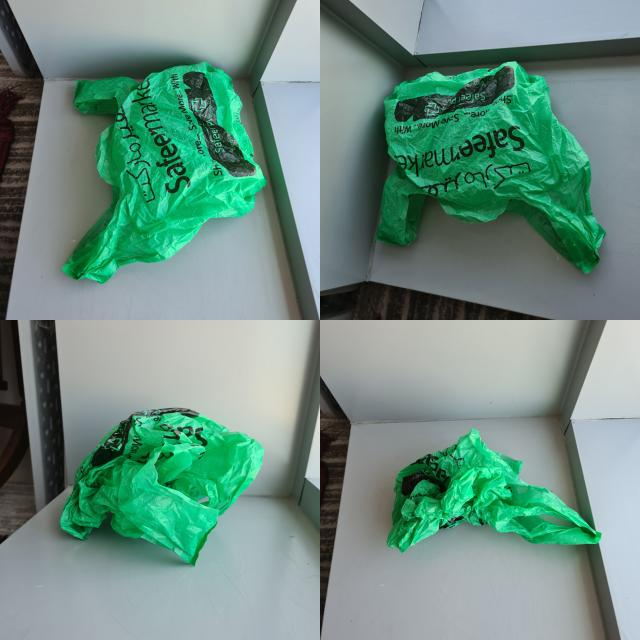Single-layer Plastic: (376, 62, 605, 272), (62, 62, 266, 282), (60, 408, 264, 565), (388, 429, 601, 551)
